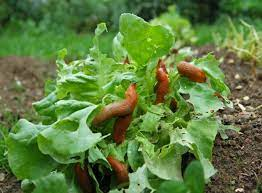slug: (115, 83, 136, 144), (92, 101, 129, 127), (178, 60, 207, 83), (75, 161, 95, 191), (107, 157, 129, 181), (156, 66, 169, 104)
